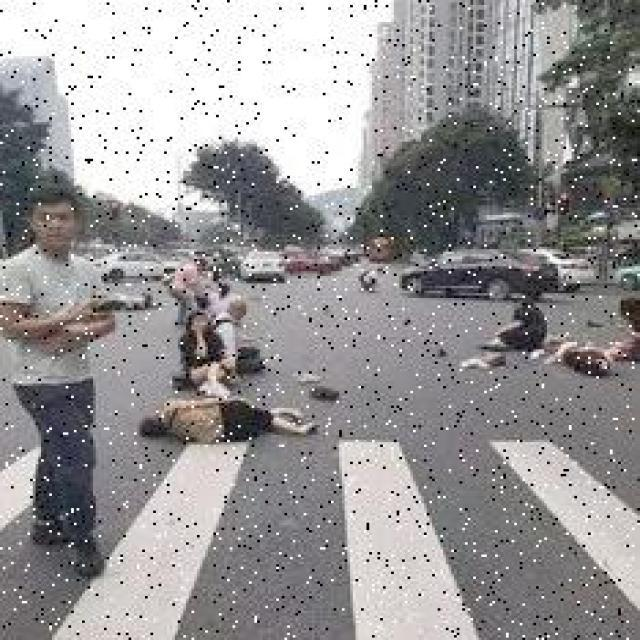fall: (134, 396, 312, 452)
